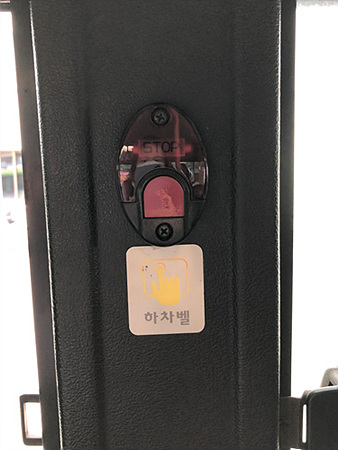bell: (118, 104, 209, 247)
